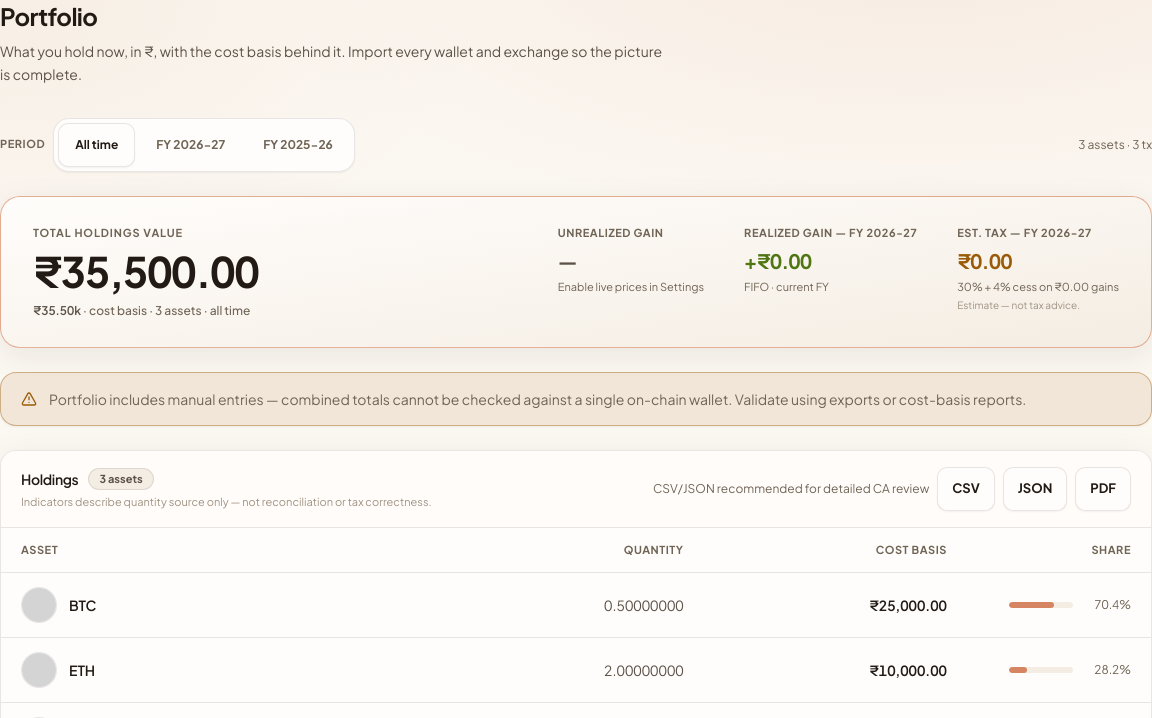
PortfolioTab (Ember & Slate) › selecting an FY pill filters the holdings to that period
Click the radio button labelled "FY 2025-26" at (298,144), box [246,122,350,166]
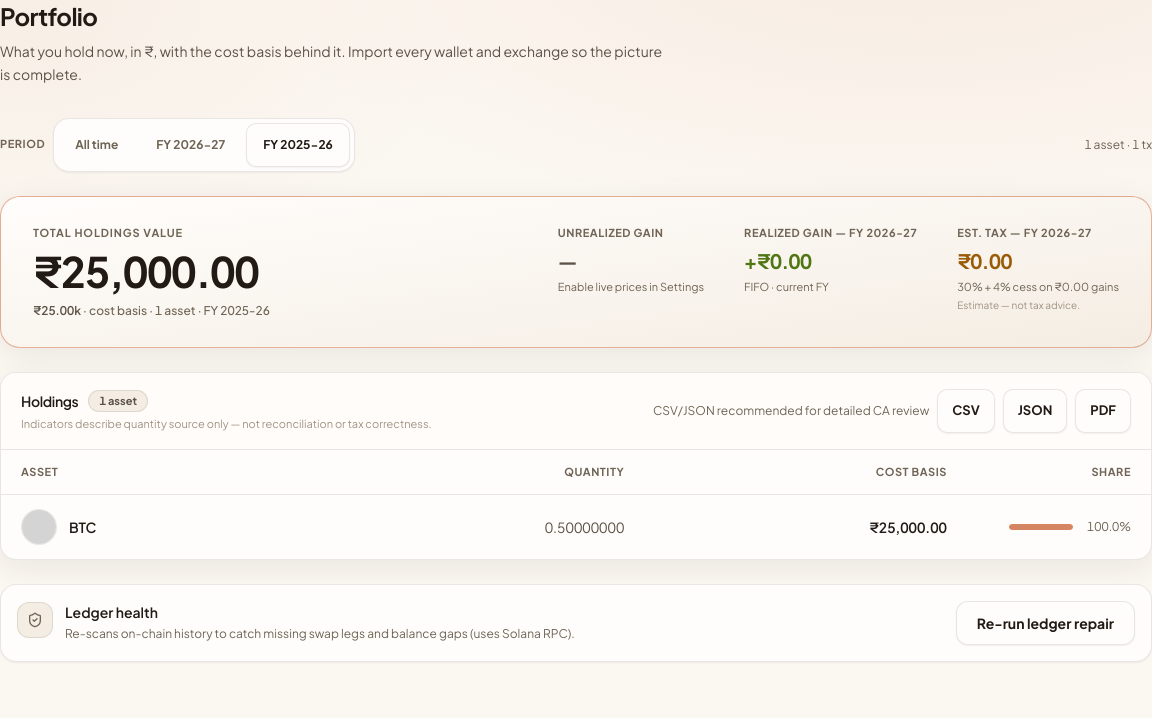
Expected: the text "1 asset" is shown, [88,390,148,412]
